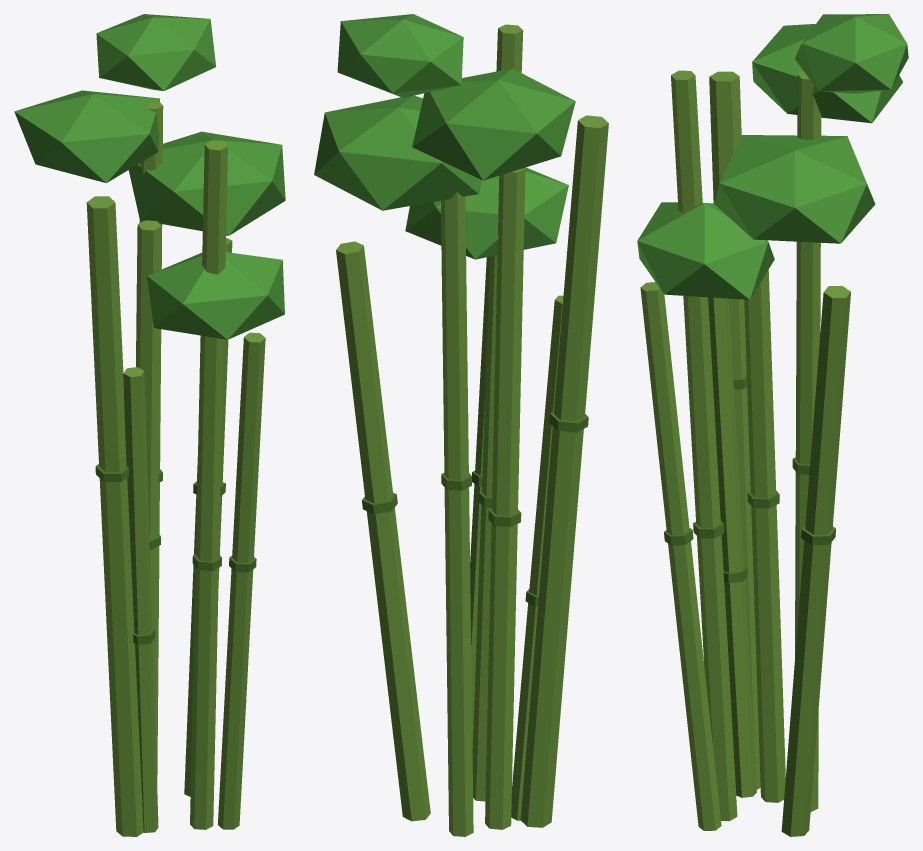
The model's file is rumpun_bambu_v001.glb.
3 views of the same model, side by side, from view 1: azimuth 30°, elevation 25°; view 2: azimuth 150°, elevation 25°; view 3: azimuth 270°, elevation 25° (orthographic). The views are drawn at different scales.
Parts seen in each view (by area): view 1: rumpun_bambu; view 2: rumpun_bambu; view 3: rumpun_bambu.
Part boxes in pixels (bbox=[...]): rumpun_bambu: bbox=[14, 14, 285, 836]; rumpun_bambu: bbox=[314, 14, 608, 836]; rumpun_bambu: bbox=[637, 14, 908, 836].
Size of the model in its own units: 1.42 by 4.42 by 1.35.
